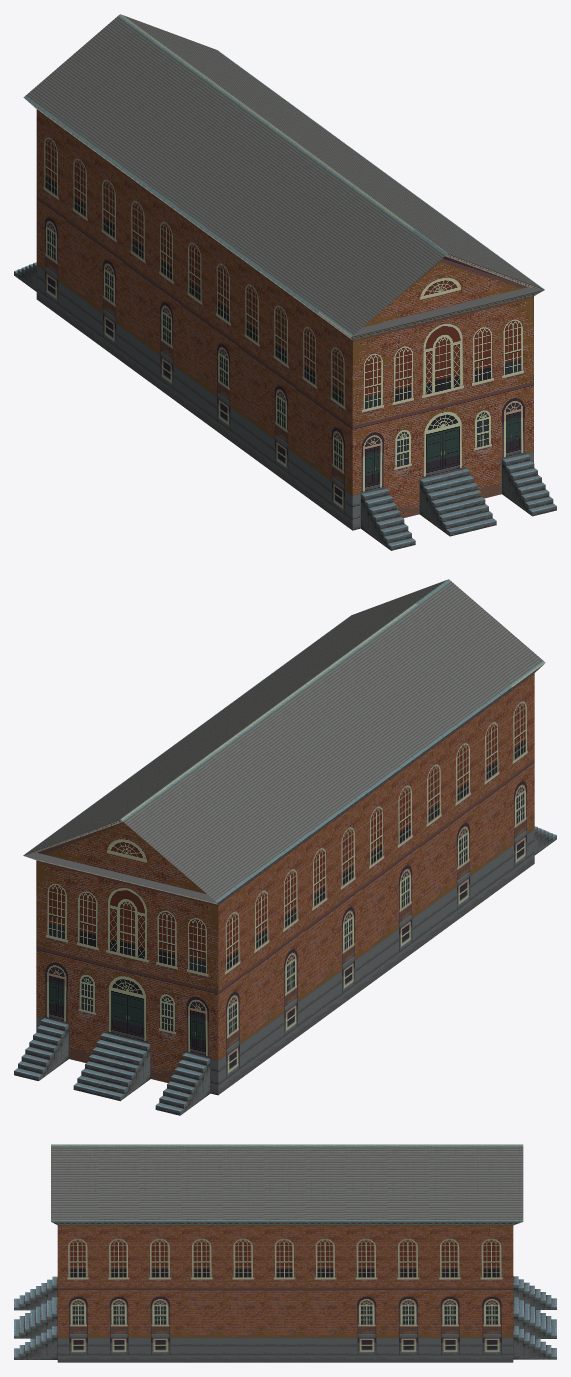
The model's file is oldtownhall1.glb.
3 renders of one model, top to bottom at view 1: azimuth 30°, elevation 25°; view 2: azimuth 150°, elevation 25°; view 3: azimuth 270°, elevation 25°, orthographic. The views are drawn at different scales.
Parts seen in each view (by area): view 1: townhall; view 2: townhall; view 3: townhall.
Boxes of the visible parts, box(x1,y1,x2,y2) form: townhall: box(14, 14, 556, 550); townhall: box(14, 579, 556, 1115); townhall: box(14, 1144, 556, 1362).
Bounding box in the file's own units: 11.73 × 14.92 × 39.42.
2 materials, 2 textured.
